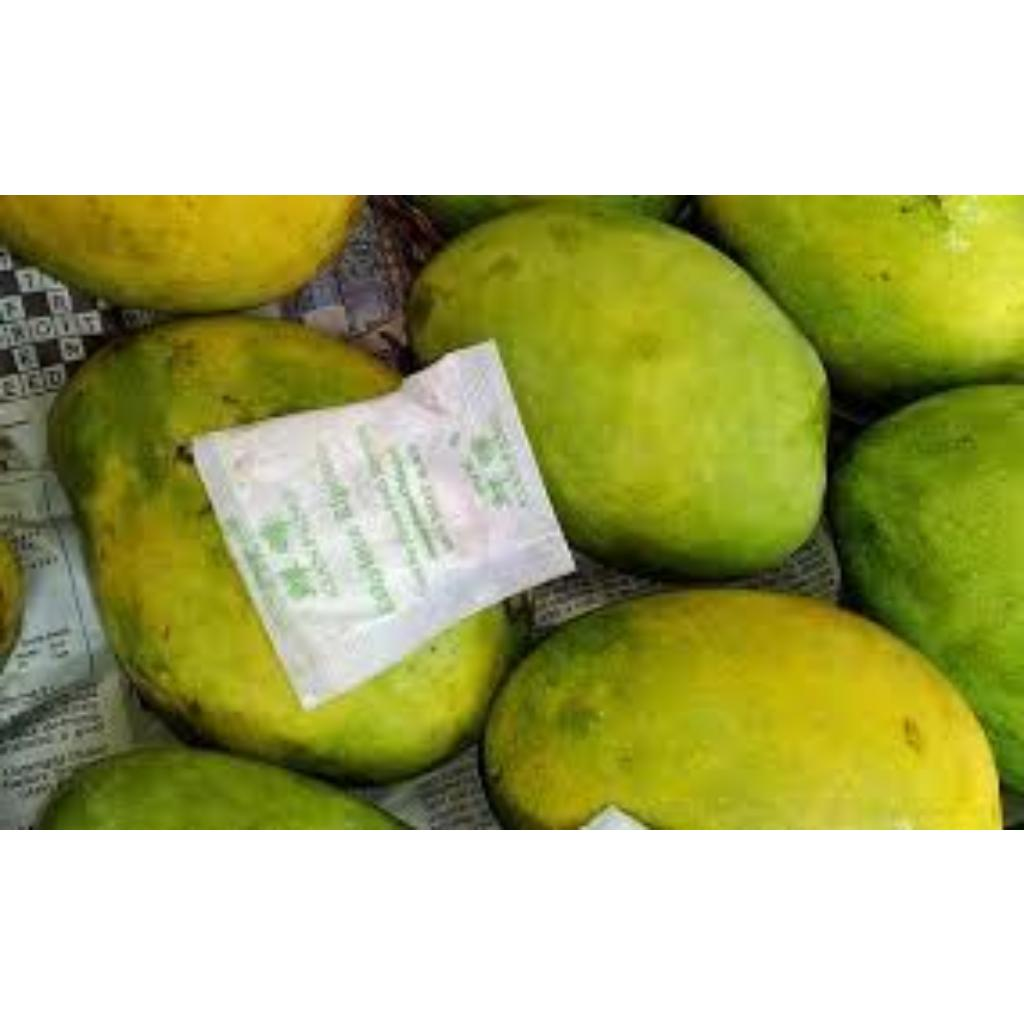mango: (402, 205, 830, 586)
